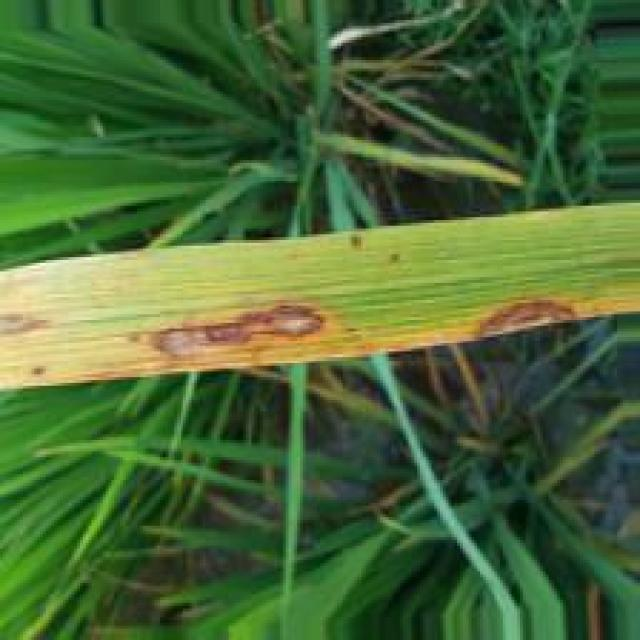Leaf_Blast: (0, 256, 640, 387)
